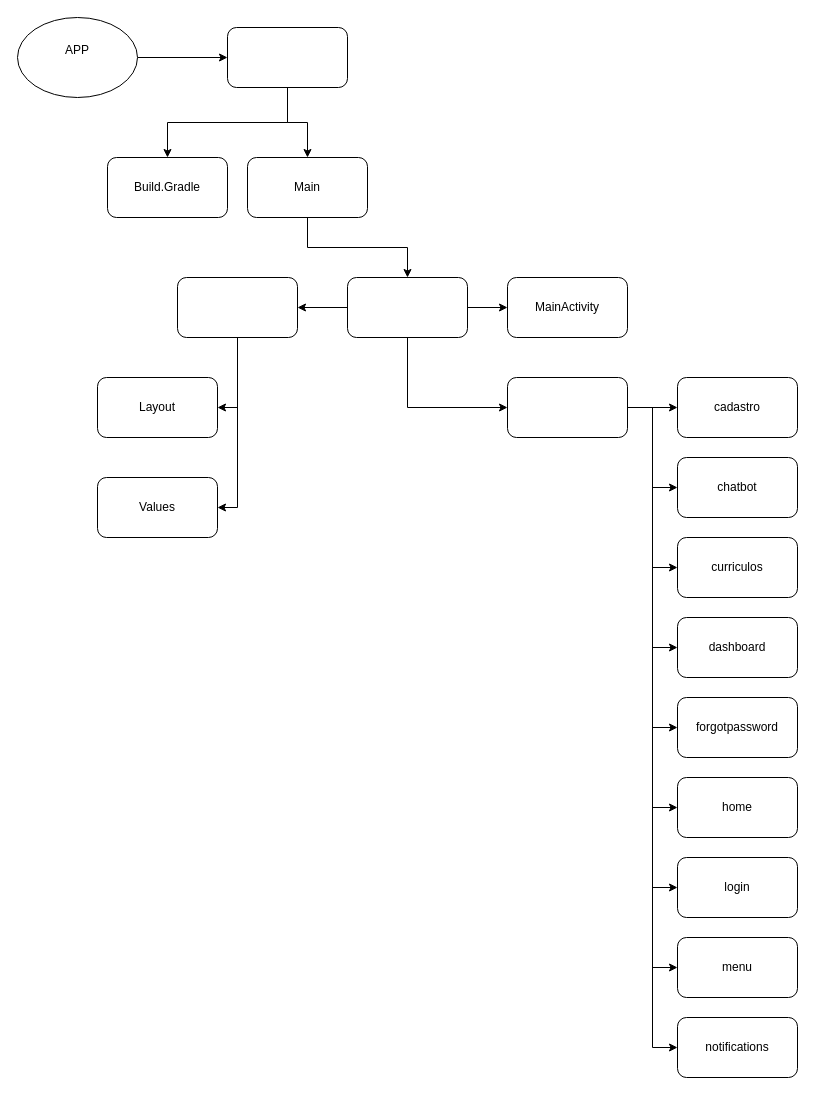
The diagram is 815 pixels wide and 1095 high, and some of its shapes have lost their labels. The shapes that lost their labels are listed below. From the top down, each one's box as (x1, y1, x2, y2) in pixels, then its label:
(226, 26, 348, 88): SRC
(176, 276, 298, 338): Res
(346, 276, 468, 338): Package br.com.fiap.AImpress
(506, 376, 628, 438): UI
